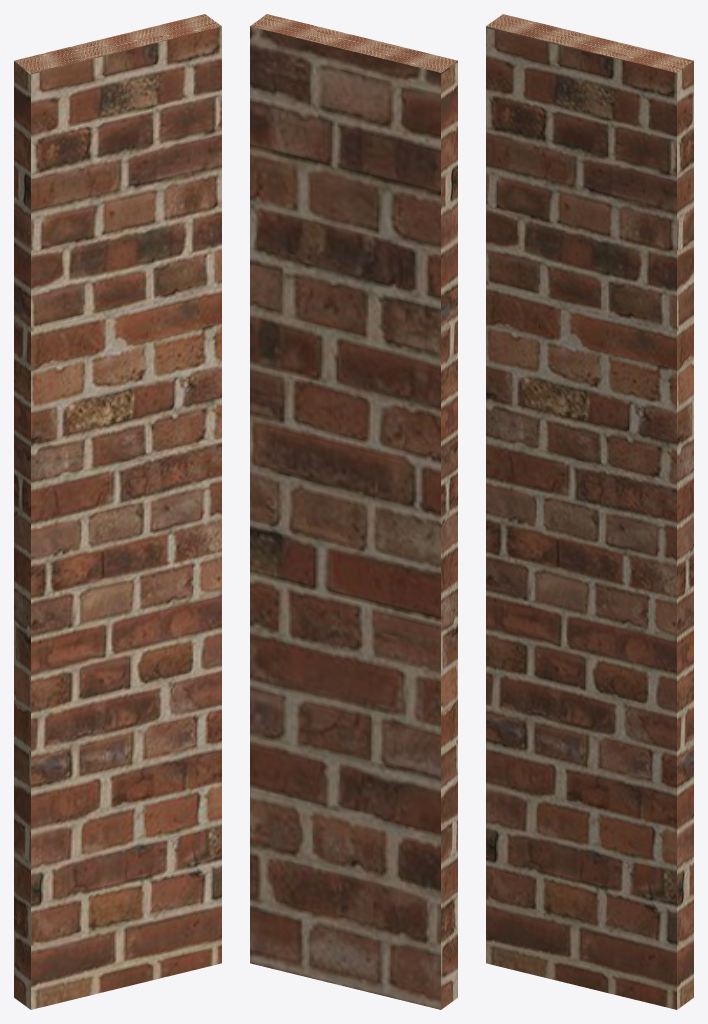
Rendered from wallwindow.obj.
The picture shows the model from 3 angles, left to right: view 1: azimuth 30°, elevation 25°; view 2: azimuth 150°, elevation 25°; view 3: azimuth 330°, elevation 25°; orthographic projection.
Visible parts, largest first — view 1: Cube_Cube.003; view 2: Cube_Cube.003; view 3: Cube_Cube.003.
Part boxes in pixels (x1,y1,x2,y2): Cube_Cube.003: [14, 14, 221, 1009]; Cube_Cube.003: [250, 14, 457, 1009]; Cube_Cube.003: [486, 14, 693, 1009].
Size of the model in its own units: 2.8 by 13.12 by 0.4276.
